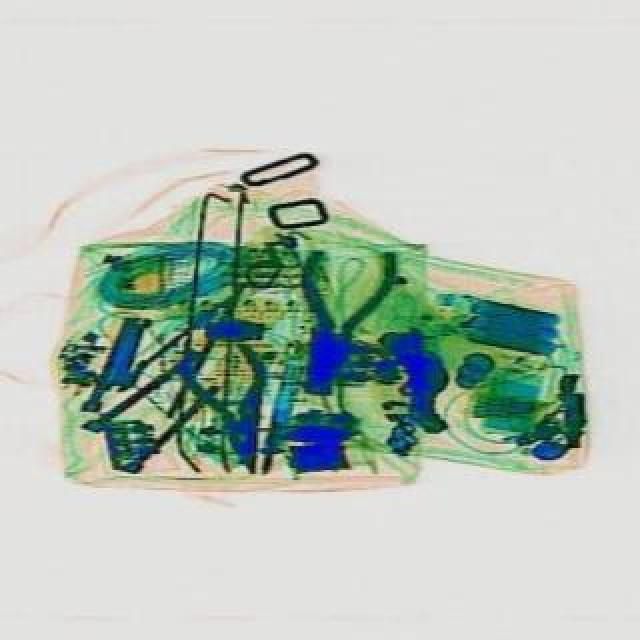wrench: (268, 234, 396, 404), (172, 336, 290, 484)
